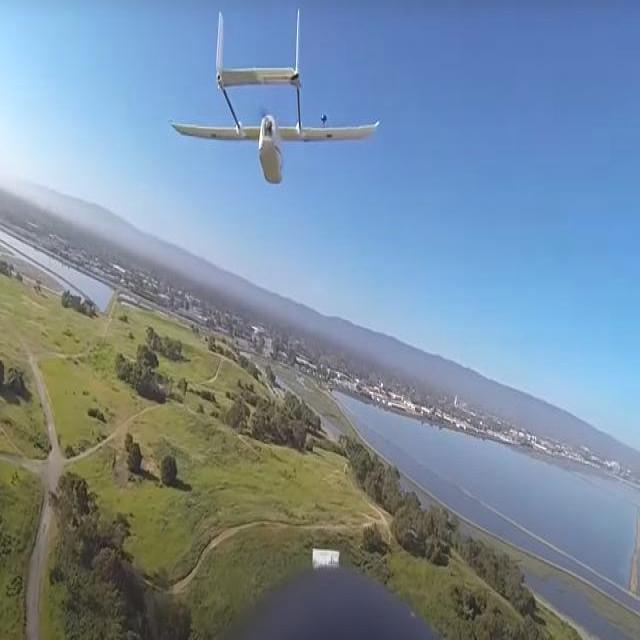iha: (169, 0, 391, 125)
